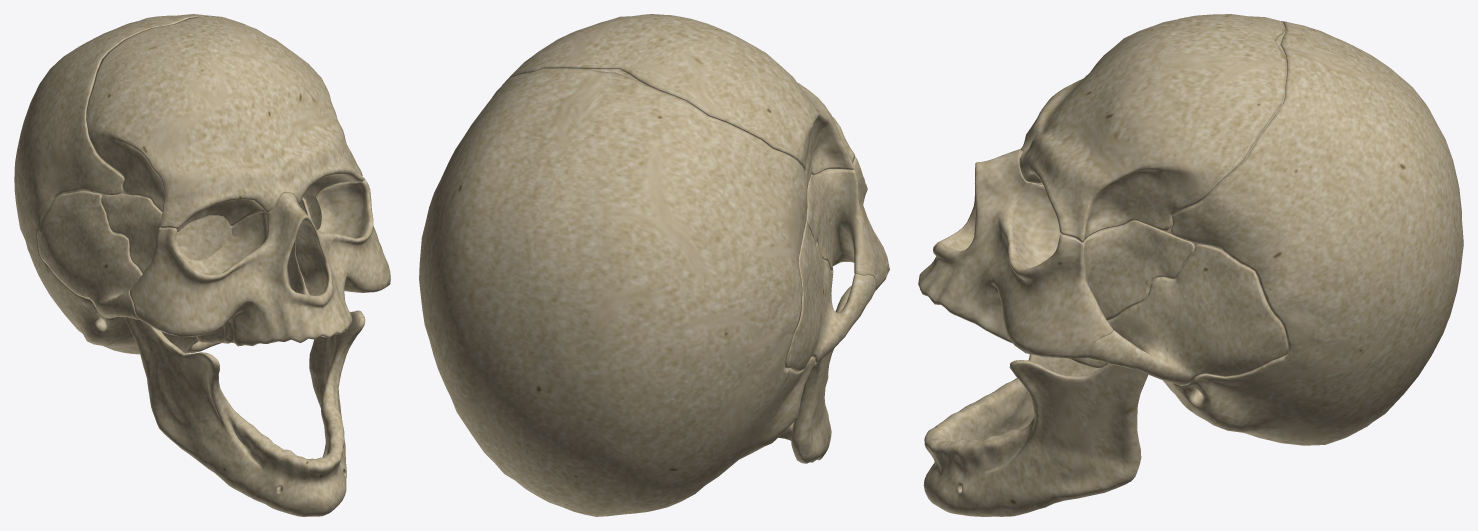
Rendered from skull.FBX.
3 renders of one model, left to right at view 1: azimuth 30°, elevation 25°; view 2: azimuth 150°, elevation 25°; view 3: azimuth 270°, elevation 25°, orthographic. The views are drawn at different scales.
Visible parts, largest first — view 1: skull, jaw; view 2: skull, jaw; view 3: skull, jaw.
Boxes of the visible parts, x1=… form: skull: x1=14, y1=14, x2=390, y2=354; jaw: x1=125, y1=310, x2=365, y2=516; skull: x1=419, y1=14, x2=889, y2=516; jaw: x1=778, y1=286, x2=851, y2=463; skull: x1=918, y1=14, x2=1463, y2=445; jaw: x1=923, y1=354, x2=1148, y2=516.
Bounding box in the file's own units: 156 × 217 × 227.
Materials: 1 (1 with a texture image).
